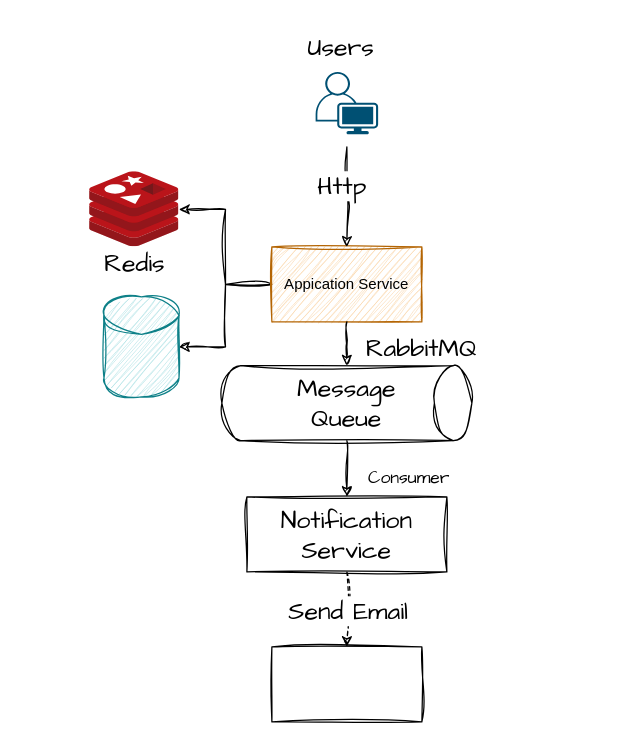
The diagram is 618 pixels wide and 744 high, and some of its shapes have lost their labels. Each missing label, with the centre of its shape:
"Postgre SQL" goes at point 141,346.
"SMTP Server" goes at point 346,684.
